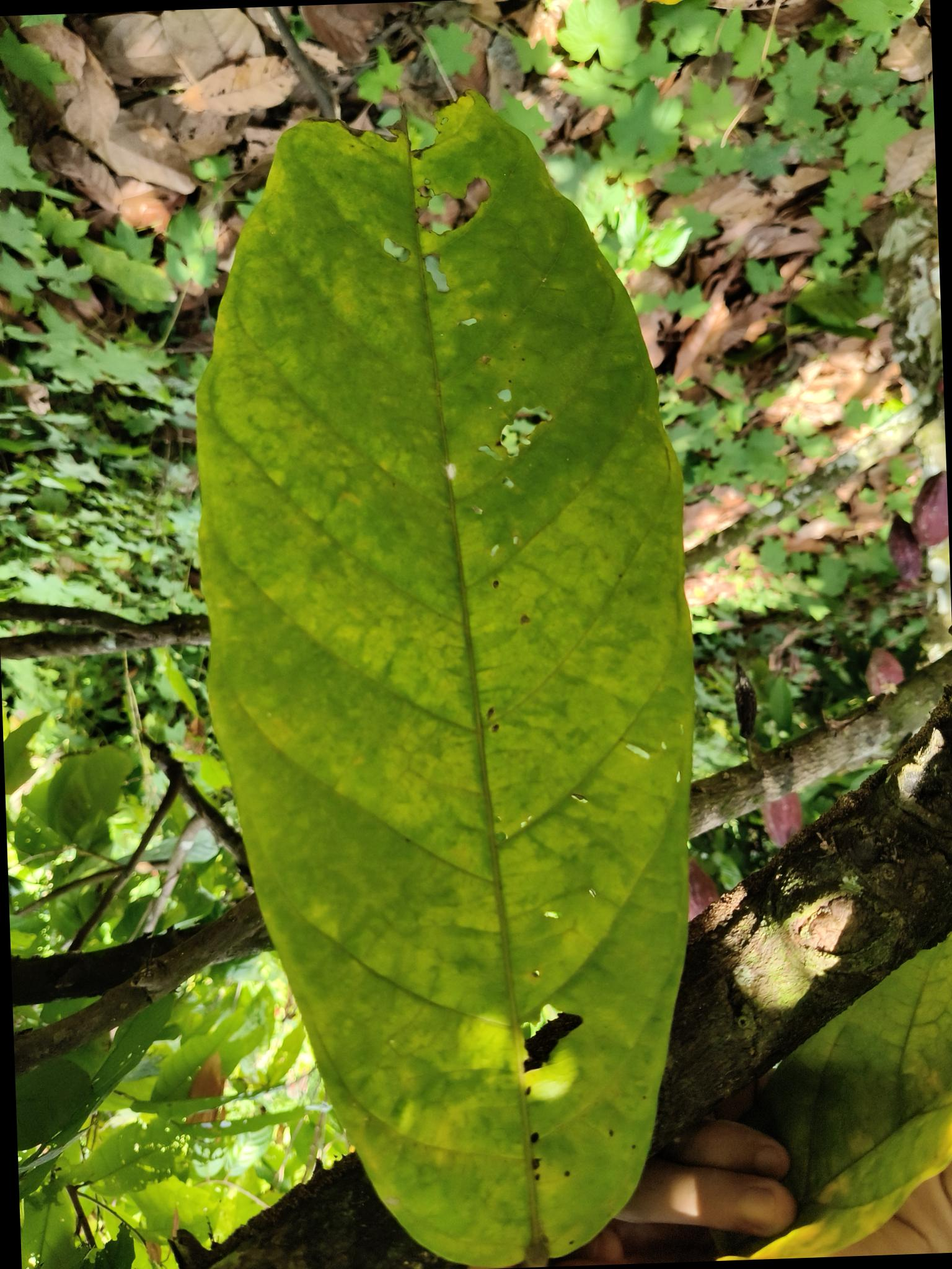Fosforo: (192, 87, 706, 1269)
